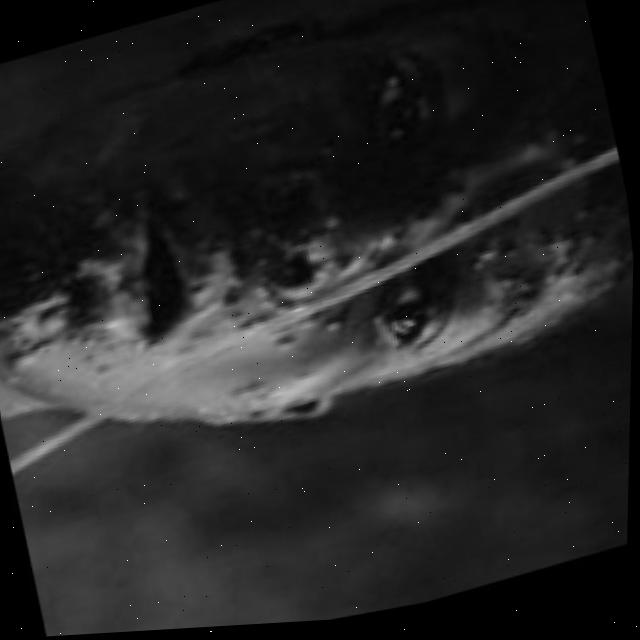Eczema: (0, 44, 413, 415), (517, 88, 622, 304)
